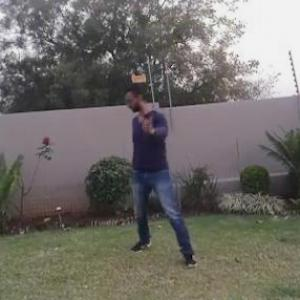takeoff-hand: (138, 103, 158, 138)
